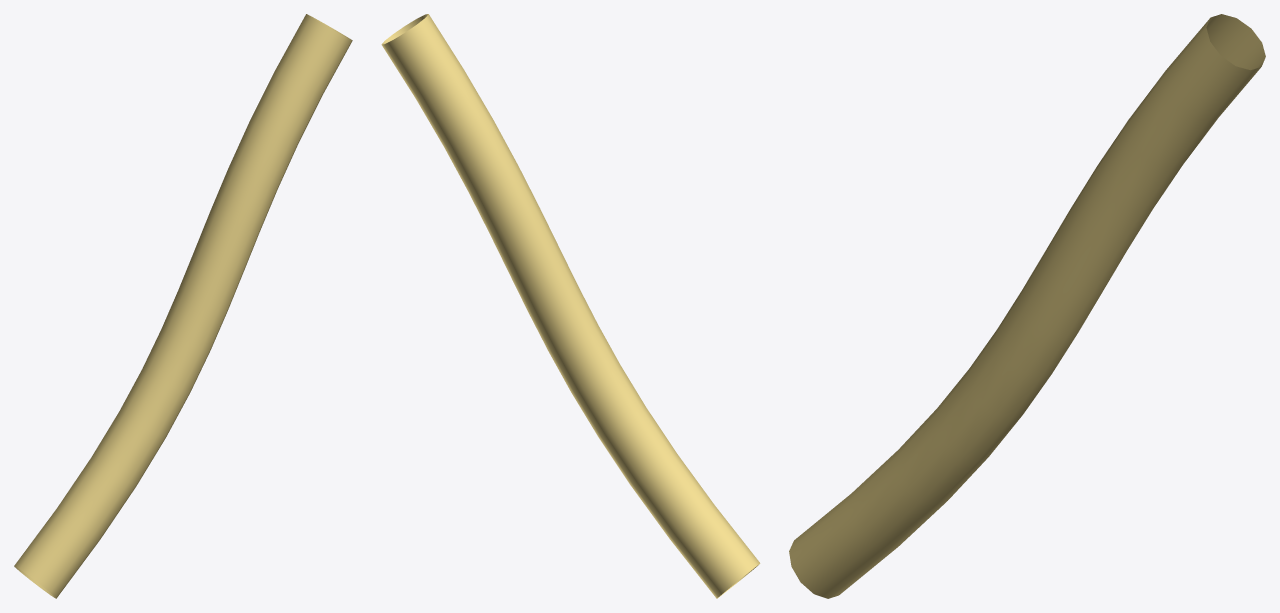
3 renders of one model, left to right at view 1: azimuth 30°, elevation 25°; view 2: azimuth 150°, elevation 25°; view 3: azimuth 330°, elevation 25°, orthographic. The views are drawn at different scales.
Visible parts, largest first — view 1: ZA_6da1076fca637b98; view 2: ZA_6da1076fca637b98; view 3: ZA_6da1076fca637b98.
Boxes of the visible parts, bbox=[...] form: ZA_6da1076fca637b98: bbox=[14, 14, 352, 598]; ZA_6da1076fca637b98: bbox=[381, 14, 760, 598]; ZA_6da1076fca637b98: bbox=[789, 14, 1265, 598].
Bounding box in the file's own units: 0.0145 × 0.0202 × 0.00304.
